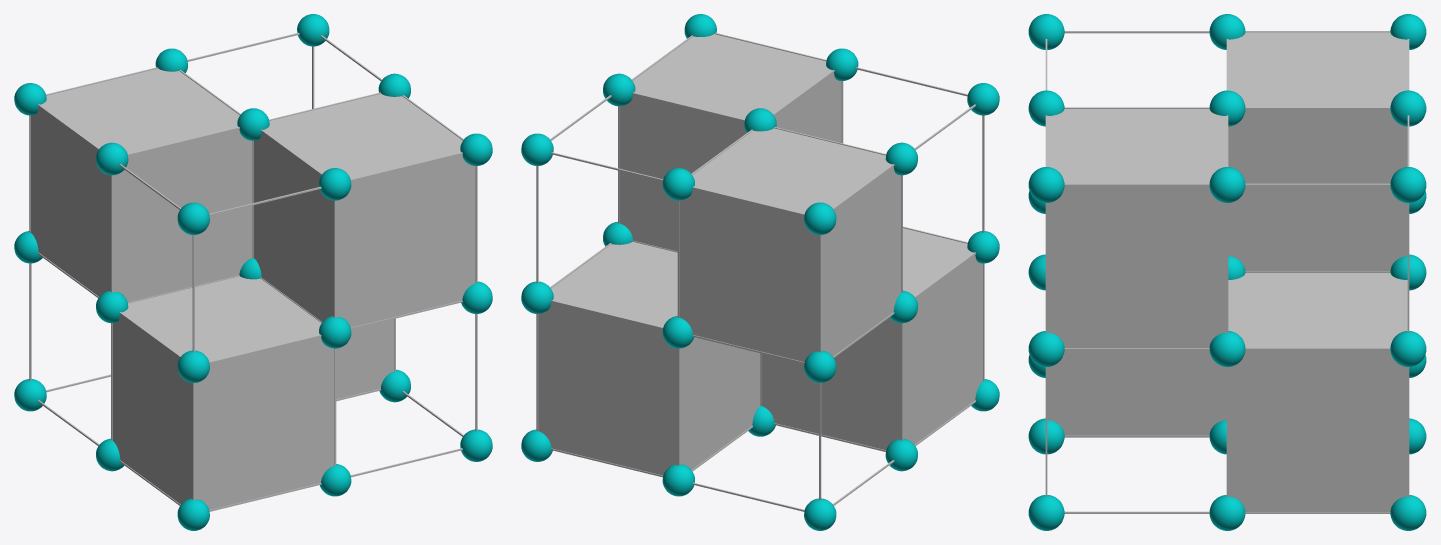
The model's file is antifluorita_centrado.glb.
The picture shows the model from 3 angles, left to right: view 1: azimuth 30°, elevation 25°; view 2: azimuth 150°, elevation 25°; view 3: azimuth 270°, elevation 25°; orthographic projection. The views are drawn at different scales.
Visible parts, largest first — view 1: arista56; view 2: arista56; view 3: arista56.
Boxes of the visible parts, box(x1,y1,x2,y2) form: arista56: box(14, 14, 492, 530); arista56: box(521, 14, 999, 530); arista56: box(1028, 14, 1426, 530).
Bounding box in the file's own units: 2.2 × 2.2 × 2.2.
